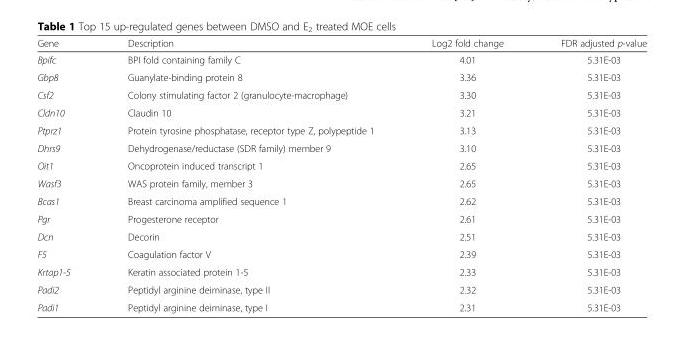table: (36, 37, 646, 312)
table column: (98, 37, 402, 312), (402, 37, 531, 312), (531, 37, 646, 312), (36, 37, 98, 312)
table column header: (36, 37, 646, 50)
table row: (36, 50, 646, 68), (36, 85, 646, 103), (36, 103, 646, 121), (36, 138, 646, 156), (36, 156, 646, 174), (36, 174, 646, 192), (36, 209, 646, 227), (36, 227, 646, 245), (36, 262, 646, 280), (36, 280, 646, 298), (36, 68, 646, 85), (36, 121, 646, 138), (36, 192, 646, 209), (36, 245, 646, 262), (36, 298, 646, 312), (36, 37, 646, 50)
